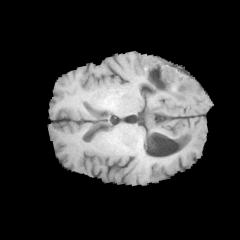glioma: (144, 54, 201, 101)
